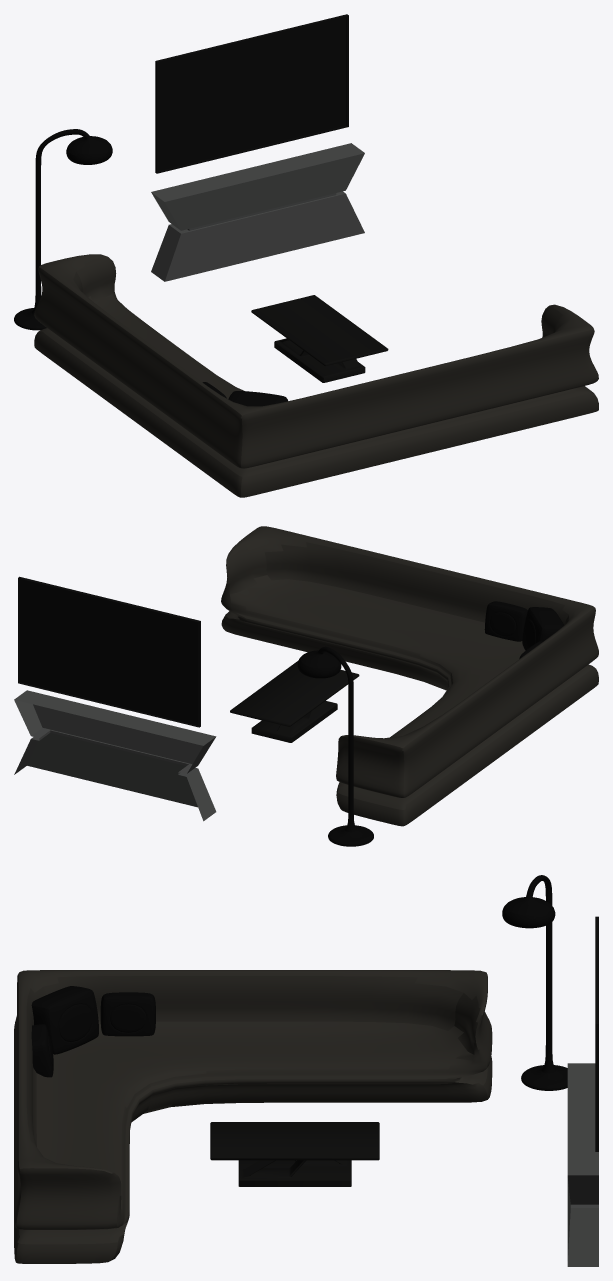
Rendered from card.gltf.
3 renders of one model, top to bottom at view 1: azimuth 30°, elevation 25°; view 2: azimuth 150°, elevation 25°; view 3: azimuth 270°, elevation 25°, orthographic. The views are drawn at different scales.
Parts seen in each view (by area): view 1: Sofa, TV, TVStand, CoffeeTable, Lamp, Pillows; view 2: Sofa, TV, TVStand, CoffeeTable, Lamp, Pillows; view 3: Sofa, CoffeeTable, Pillows, TVStand, Lamp, TV.
Boxes of the visible parts, left/top/right/bottom form: Sofa: left=34, top=254, right=598, bottom=497; TV: left=155, top=14, right=348, bottom=173; TVStand: left=151, top=143, right=364, bottom=281; CoffeeTable: left=251, top=295, right=388, bottom=382; Lamp: left=14, top=129, right=112, bottom=330; Pillows: left=202, top=382, right=287, bottom=406; Sofa: left=221, top=526, right=598, bottom=826; TV: left=18, top=576, right=200, bottom=727; TVStand: left=14, top=690, right=216, bottom=821; CoffeeTable: left=230, top=660, right=359, bottom=742; Lamp: left=297, top=646, right=373, bottom=846; Pillows: left=484, top=601, right=564, bottom=658; Sofa: left=14, top=970, right=492, bottom=1263; CoffeeTable: left=210, top=1122, right=379, bottom=1186; Pillows: left=31, top=986, right=155, bottom=1077; TVStand: left=567, top=1063, right=598, bottom=1266; Lamp: left=502, top=875, right=567, bottom=1090; TV: left=595, top=916, right=598, bottom=1151.
Bounding box in the file's own units: 3.93 × 2.15 × 4.74.
6 materials, 6 textured.
